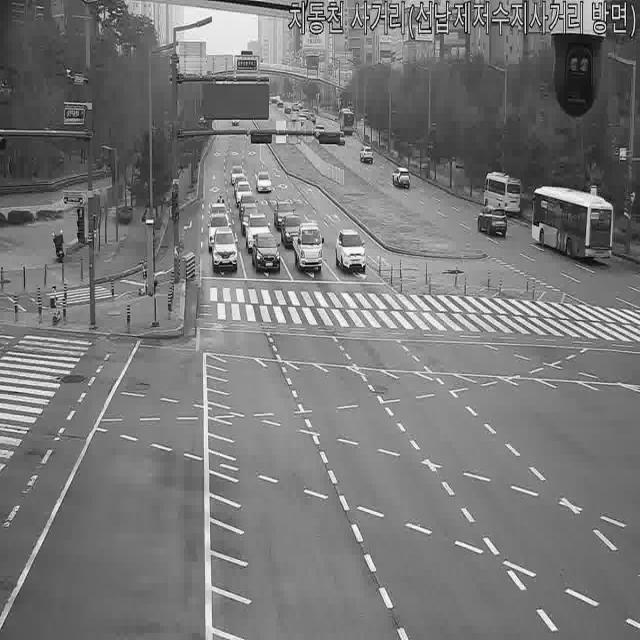Bus: (531, 185, 616, 263), (481, 172, 523, 215), (338, 106, 355, 136)
Car: (481, 172, 523, 215), (335, 228, 366, 274), (210, 228, 238, 274), (251, 233, 281, 274), (244, 213, 271, 252), (477, 205, 508, 238), (207, 214, 232, 251), (281, 214, 306, 249), (273, 198, 295, 230), (239, 207, 263, 235), (208, 201, 230, 231), (239, 193, 258, 220), (235, 181, 252, 207), (392, 167, 411, 189), (255, 170, 273, 193), (230, 165, 246, 187), (293, 94, 308, 116), (359, 145, 374, 163), (228, 115, 242, 132), (291, 96, 304, 114), (282, 99, 296, 115), (313, 124, 325, 138), (336, 132, 346, 146), (272, 96, 283, 108), (307, 112, 316, 124)
Motorcycle: (216, 192, 226, 214)
Truck: (294, 221, 324, 273)
